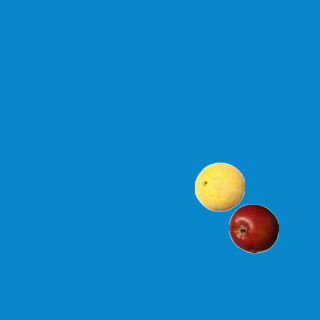Apple Braeburn: (228, 203, 278, 253)
Cantaloupe 1: (194, 161, 244, 211)
